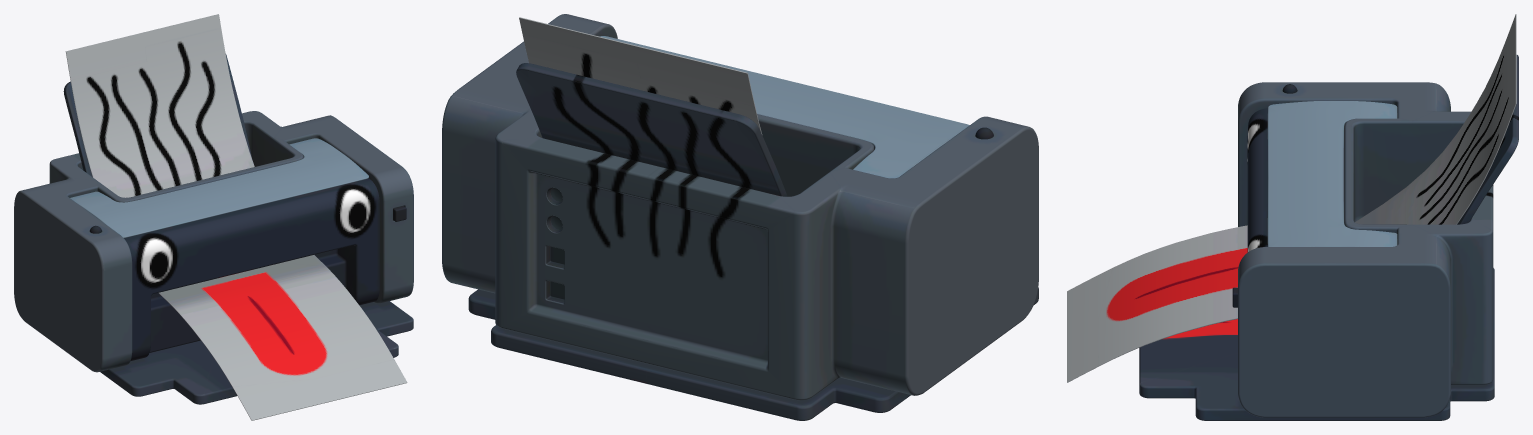
The model's file is normalPrinter.fbx.
The picture shows the model from 3 angles, left to right: view 1: azimuth 30°, elevation 25°; view 2: azimuth 150°, elevation 25°; view 3: azimuth 270°, elevation 25°; orthographic projection. The views are drawn at different scales.
Visible parts, largest first — view 1: node_id55; view 2: node_id55; view 3: node_id55.
Boxes of the visible parts, bbox=[...] form: node_id55: bbox=[14, 14, 413, 420]; node_id55: bbox=[442, 14, 1038, 420]; node_id55: bbox=[1067, 14, 1518, 420].
Bounding box in the file's own units: 0.512 × 0.3662 × 0.5346.
2 materials, 2 textured.
